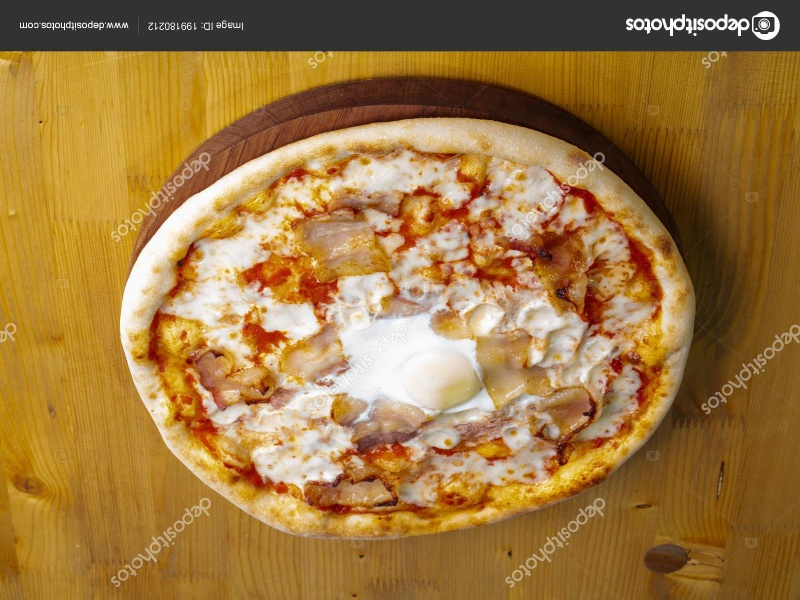oeuf: (385, 335, 488, 411)
